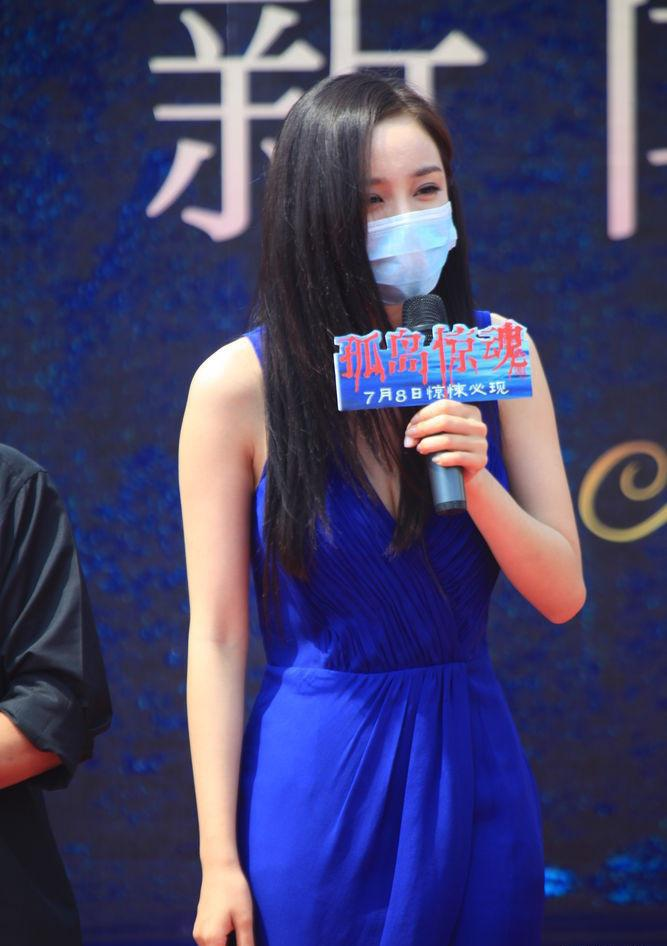OK: (332, 147, 467, 300)
